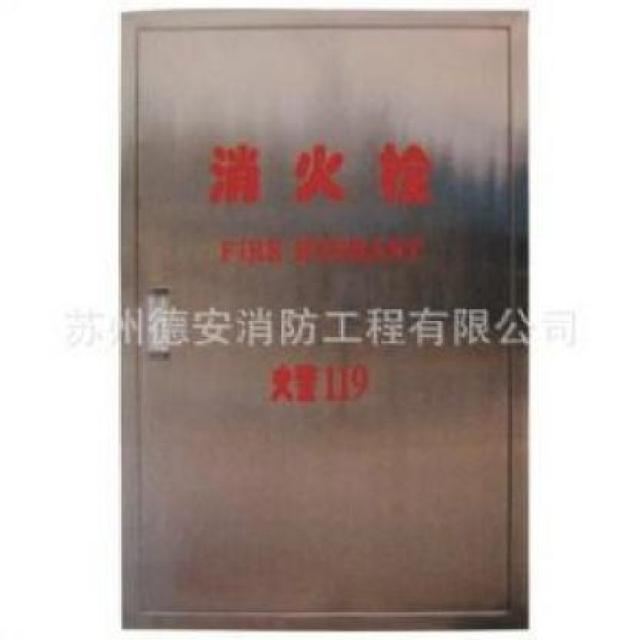firehydrant: (114, 3, 536, 634)
